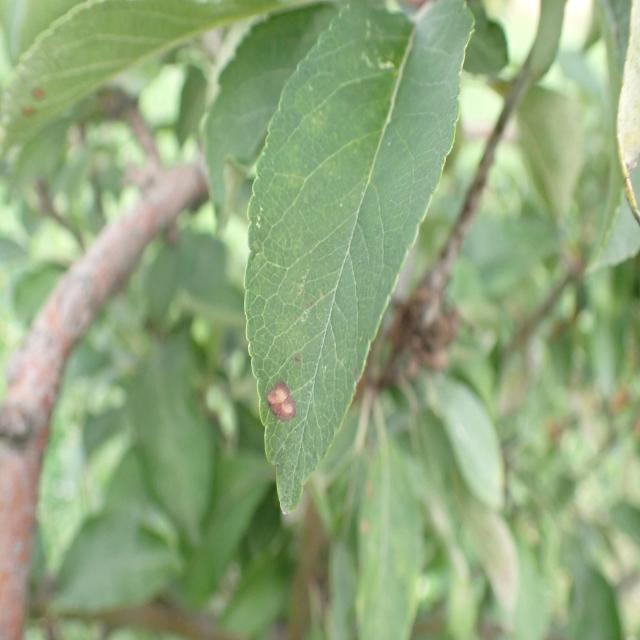Black Rot: (243, 362, 300, 453)
